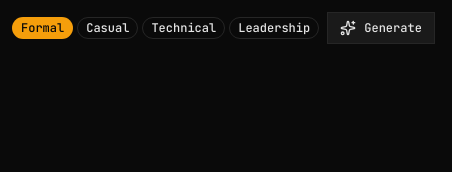
Test: CoverLetterSection › shows error on 403
Click the button "Generate". click: (381, 28)
box: [327,12,435,44]
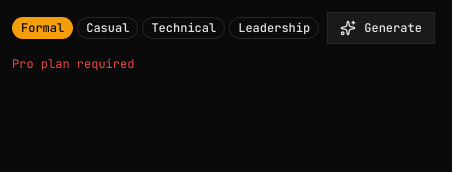
Expected: the text "Pro plan required" is shown, [12,56,134,72]
